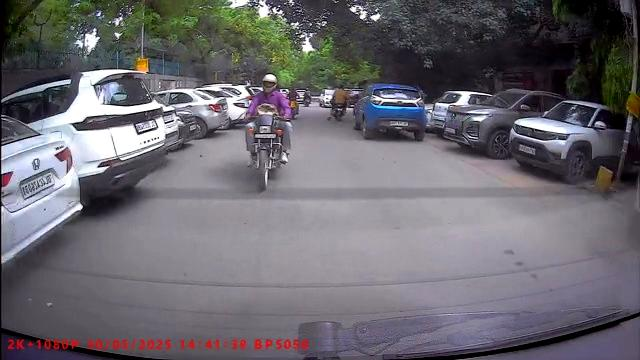motorcycle_with_helmet: (245, 73, 293, 195)
